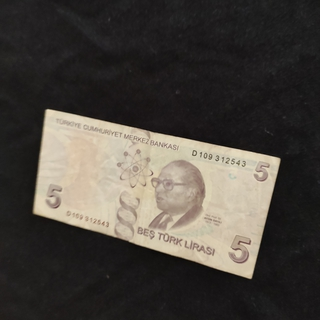5TLBack: (31, 106, 282, 282)
